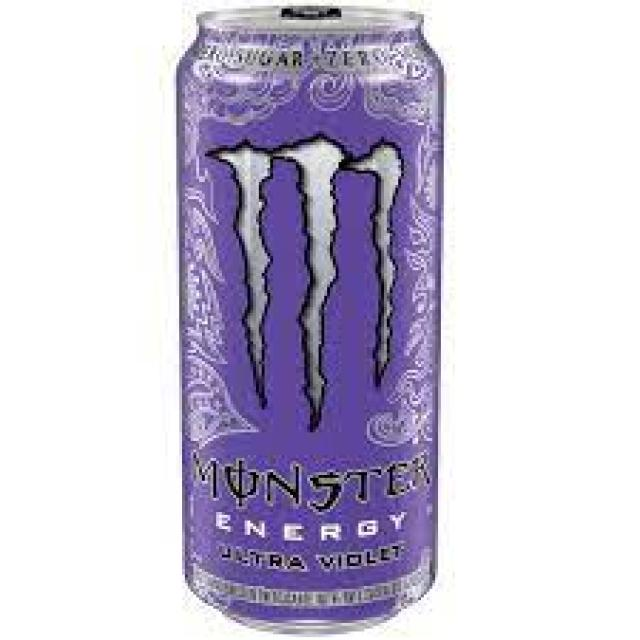Cans: (168, 0, 447, 640)
